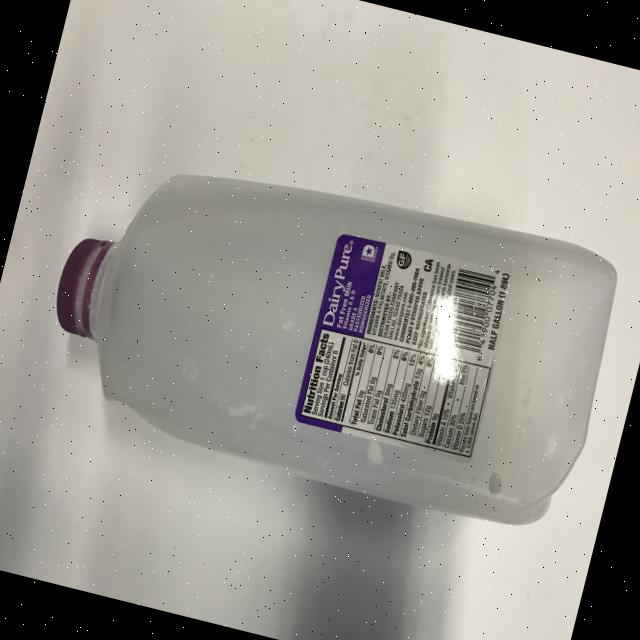plastic: (26, 122, 631, 542)
